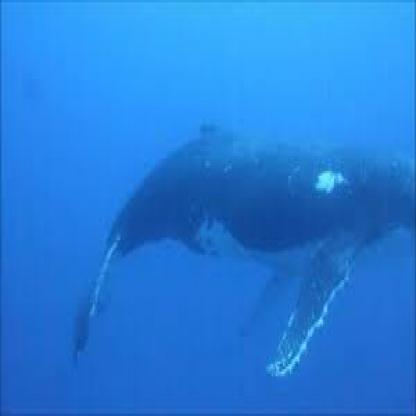blue_whale: (51, 69, 415, 406)
